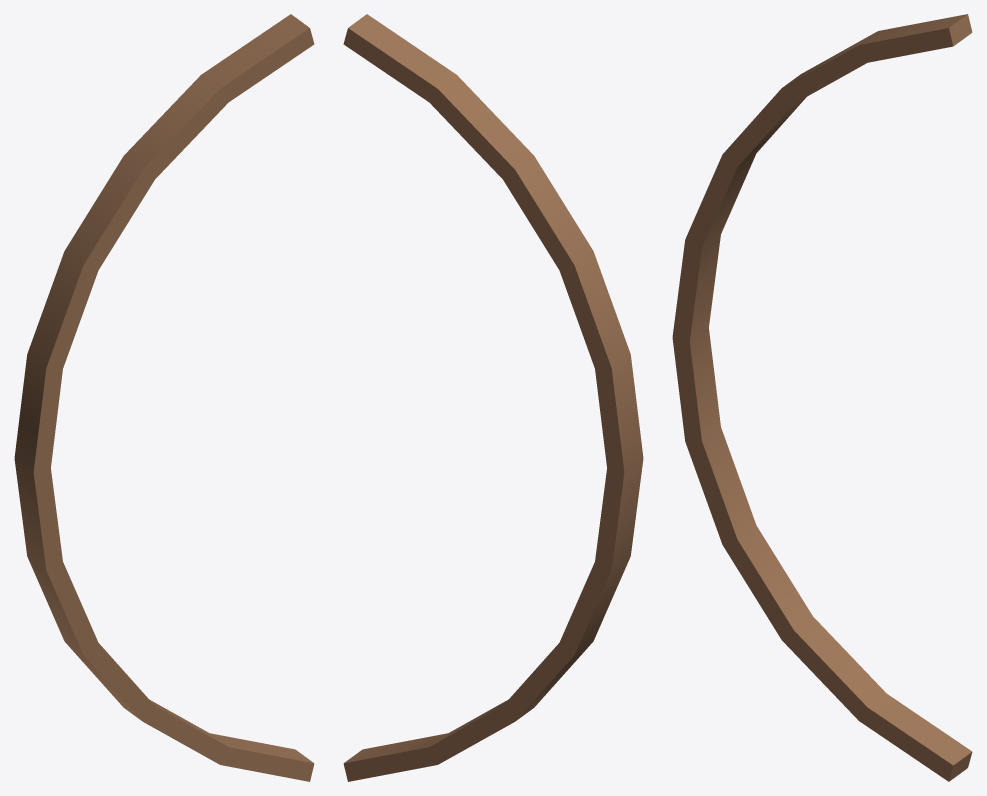
File: Metal_Beam_01_Bend_03.fbx
The picture shows the model from 3 angles, left to right: view 1: azimuth 30°, elevation 25°; view 2: azimuth 150°, elevation 25°; view 3: azimuth 330°, elevation 25°; orthographic projection.
Visible parts, largest first — view 1: Metal_Beam_01_Bend_03; view 2: Metal_Beam_01_Bend_03; view 3: Metal_Beam_01_Bend_03.
Part boxes in pixels (x1,y1,x2,y2): Metal_Beam_01_Bend_03: (14,14,314,781); Metal_Beam_01_Bend_03: (343,14,643,781); Metal_Beam_01_Bend_03: (672,14,972,781).
Size of the model in its own units: 143 by 366 by 16.8.
